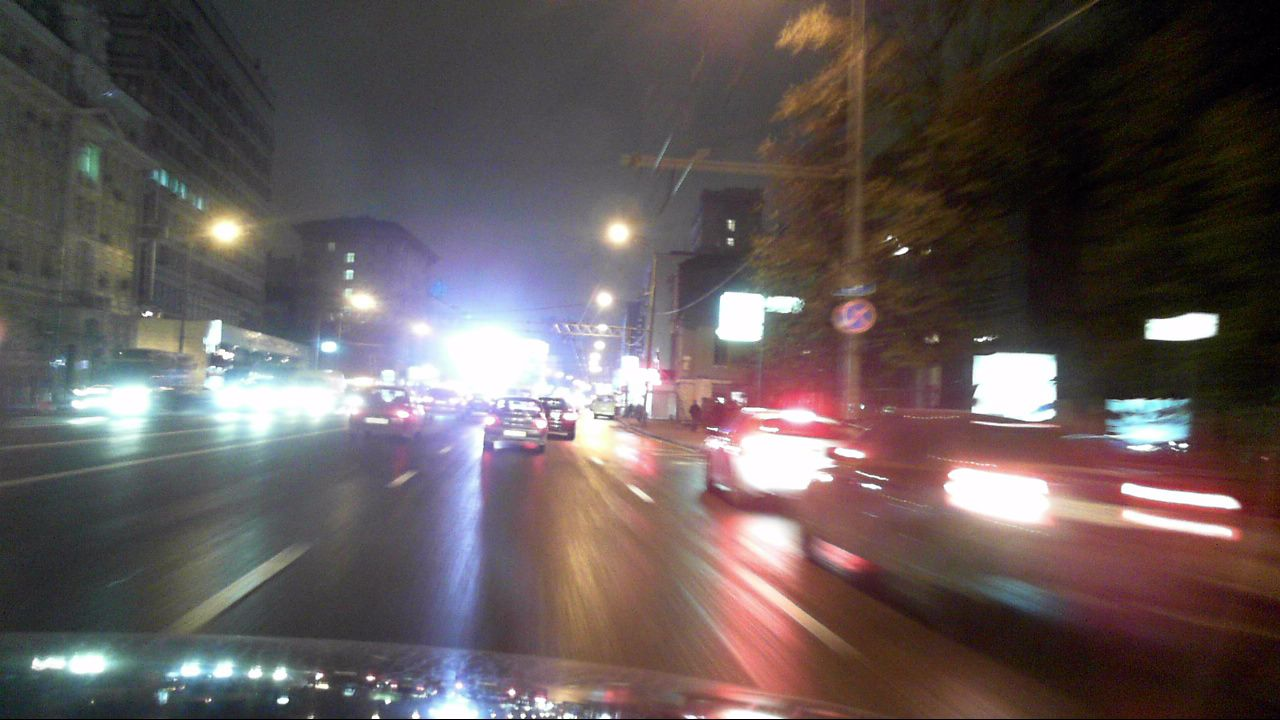No Parking: (838, 298, 874, 332)
